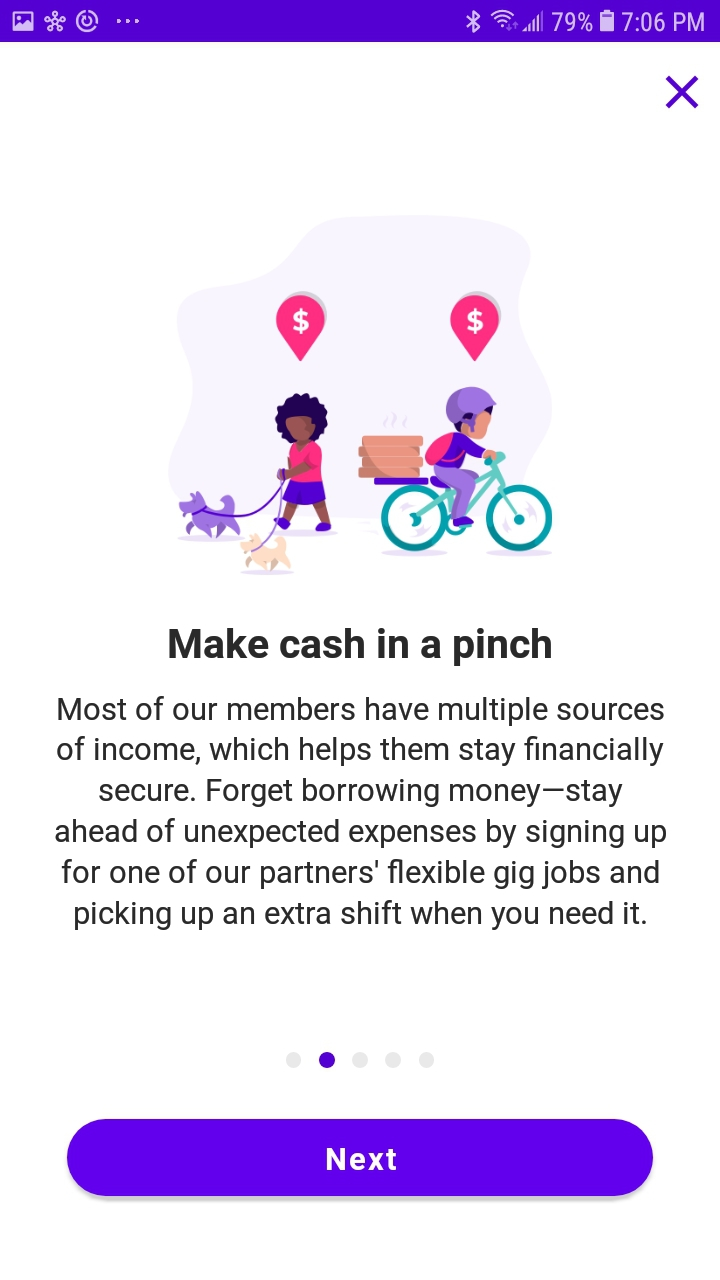Icon: (665, 76, 699, 110)
Image: (168, 215, 553, 575)
PageIndicator: (286, 1051, 435, 1069)
Text: (56, 695, 665, 931), (169, 627, 552, 667)
TextButton: (67, 1118, 654, 1197)
UpperTaskBar: (1, 1, 720, 43)
